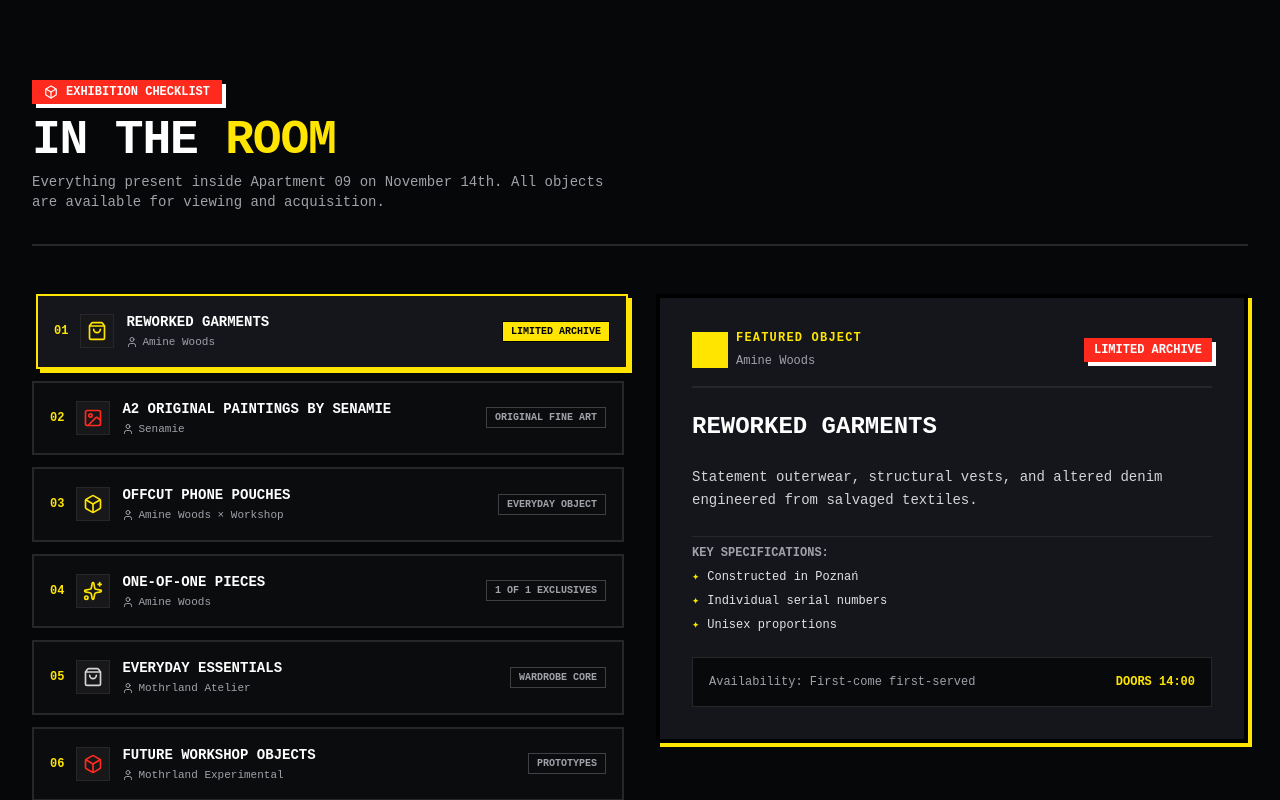
Test: InTheRoom › updates spotlight card when an item is selected
This screenshot has width=1280, height=800.
Click the text "A2 ORIGINAL PAINTINGS BY SENAMIE" at (257, 408), box x1=122 y1=398 x2=391 y2=418
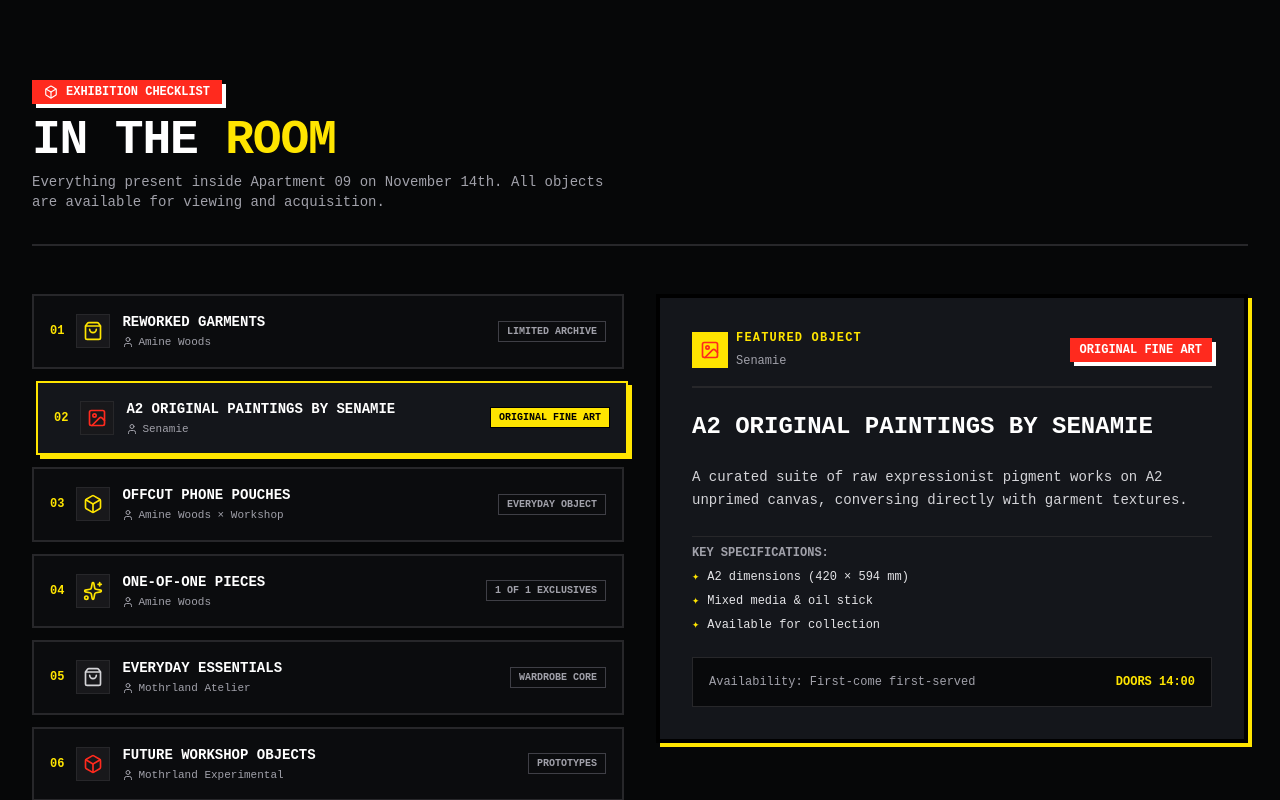
Expected: the text "A curated suite of raw expressionist pigment works on A2 unprimed canvas" is shown, x1=692 y1=469 x2=1188 y2=508
Expected: the text "A2 dimensions (420 × 594 mm)" is shown, x1=707 y1=568 x2=909 y2=584
